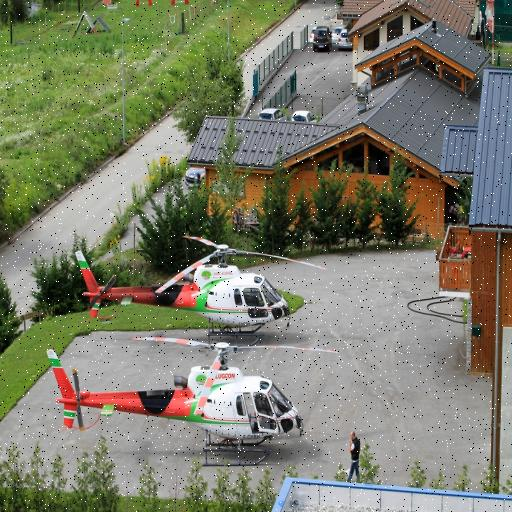helicopter: (39, 327, 350, 480), (67, 225, 320, 348)
